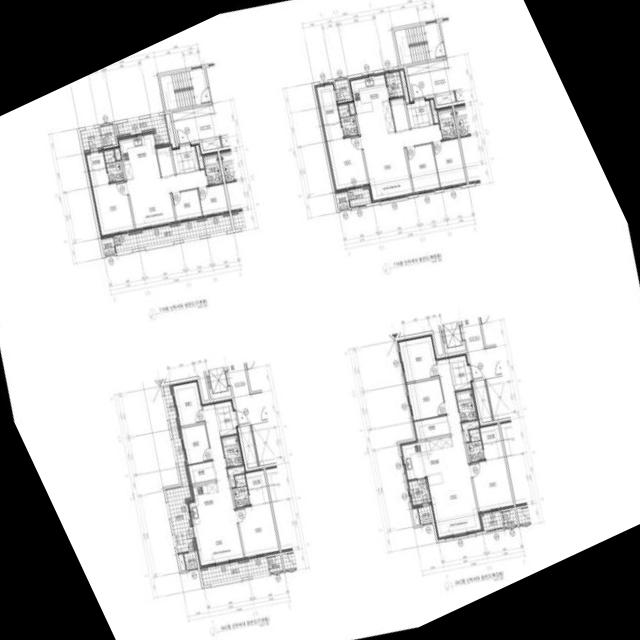background: (0, 0, 640, 640)
space_balconi: (162, 385, 194, 553), (113, 215, 232, 252), (200, 556, 269, 585), (114, 115, 169, 145), (406, 478, 430, 508), (80, 127, 102, 152), (385, 71, 403, 98), (347, 188, 371, 207), (481, 511, 503, 531)
space_bedroom: (227, 363, 268, 426), (90, 181, 134, 238), (470, 457, 514, 513), (236, 503, 279, 559), (327, 136, 368, 189), (396, 334, 438, 382), (405, 378, 446, 421), (432, 138, 466, 187), (406, 143, 439, 192), (170, 379, 204, 426), (179, 424, 211, 464), (171, 189, 202, 223), (198, 184, 229, 217)
space_dressroom: (316, 84, 343, 142), (245, 468, 269, 506), (84, 149, 108, 186), (479, 423, 503, 459)
space_elevator_hall: (462, 317, 502, 381), (173, 113, 219, 144), (408, 68, 453, 98)
space_front: (171, 142, 199, 175), (413, 97, 433, 128), (450, 363, 472, 391), (216, 409, 238, 436)
space_kitchen: (399, 436, 460, 489), (350, 74, 395, 139), (118, 132, 160, 184), (186, 482, 224, 526)
space_living_room: (429, 357, 483, 540), (193, 402, 244, 568), (361, 124, 441, 200), (127, 169, 207, 230)
space_other: (251, 421, 276, 465), (486, 376, 510, 420), (412, 415, 450, 440), (474, 379, 492, 422), (239, 425, 257, 468), (171, 104, 214, 121), (154, 144, 175, 178), (406, 59, 448, 75), (186, 461, 215, 484), (390, 97, 409, 131), (461, 420, 479, 441), (227, 466, 244, 487), (165, 114, 175, 148), (100, 125, 116, 146), (335, 79, 350, 101), (399, 70, 409, 102), (448, 353, 468, 369), (500, 509, 517, 526), (214, 398, 233, 413), (435, 91, 455, 105), (406, 103, 417, 128), (201, 136, 220, 150), (267, 555, 282, 572), (195, 145, 204, 168), (430, 99, 438, 123), (412, 508, 420, 525), (177, 554, 185, 570), (114, 148, 121, 160), (348, 103, 355, 114)
space_outdoor_room: (418, 505, 432, 524), (101, 237, 115, 255), (335, 191, 349, 209), (183, 552, 197, 569)
space_staircase: (394, 22, 444, 65), (159, 68, 210, 110)
space_toilet: (455, 389, 477, 422), (221, 435, 242, 467), (103, 150, 124, 182), (338, 104, 358, 137), (203, 154, 223, 185), (437, 108, 457, 139), (466, 428, 484, 462), (232, 474, 250, 507)
